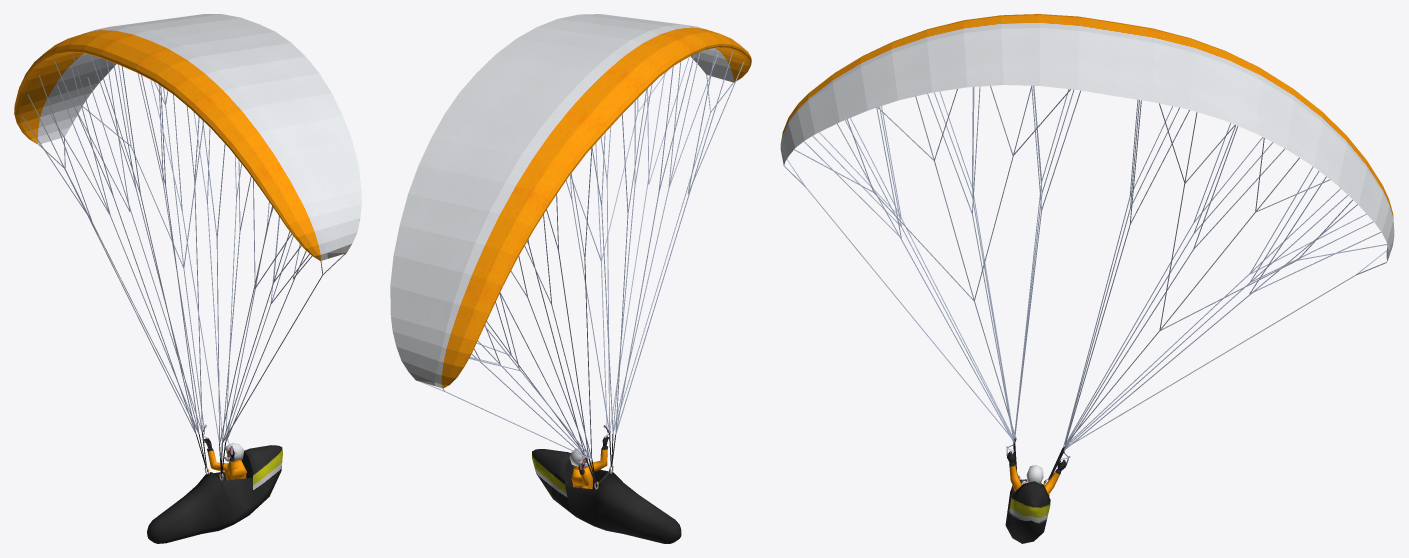
The model's file is paraglider-yellow-ridge-cbj_LOD01.gltf.
The picture shows the model from 3 angles, left to right: view 1: azimuth 30°, elevation 25°; view 2: azimuth 150°, elevation 25°; view 3: azimuth 270°, elevation 25°; orthographic projection. The views are drawn at different scales.
Visible parts, largest first — view 1: harness-plus00; view 2: harness-plus00; view 3: harness-plus00.
Boxes of the visible parts, <box> form: harness-plus00: <box>14,14,361,543</box>; harness-plus00: <box>390,14,751,543</box>; harness-plus00: <box>780,14,1394,543</box>.
Size of what is drawn, in the model's own units: 2.82 by 8.2 by 9.06.
